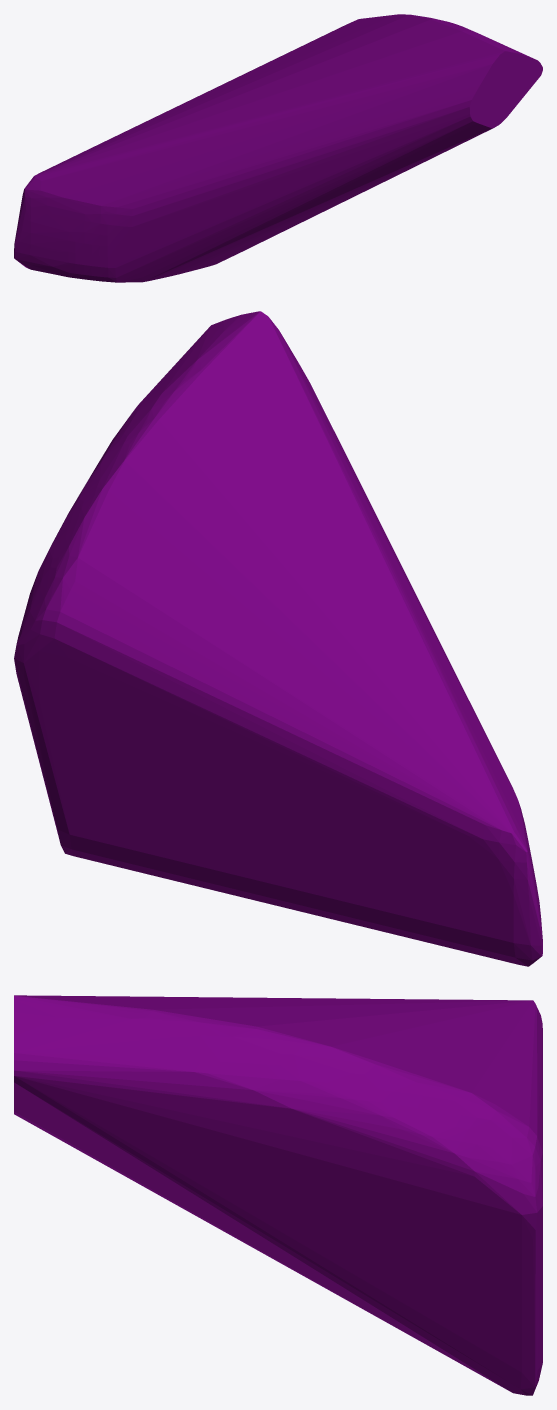
File: torso_link_part_11.obj
3 views of the same model, one above another, from view 1: azimuth 30°, elevation 25°; view 2: azimuth 150°, elevation 25°; view 3: azimuth 270°, elevation 25° (orthographic). The views are drawn at different scales.
Bounding box in the file's own units: 0.1161 × 0.0722 × 0.0827.
